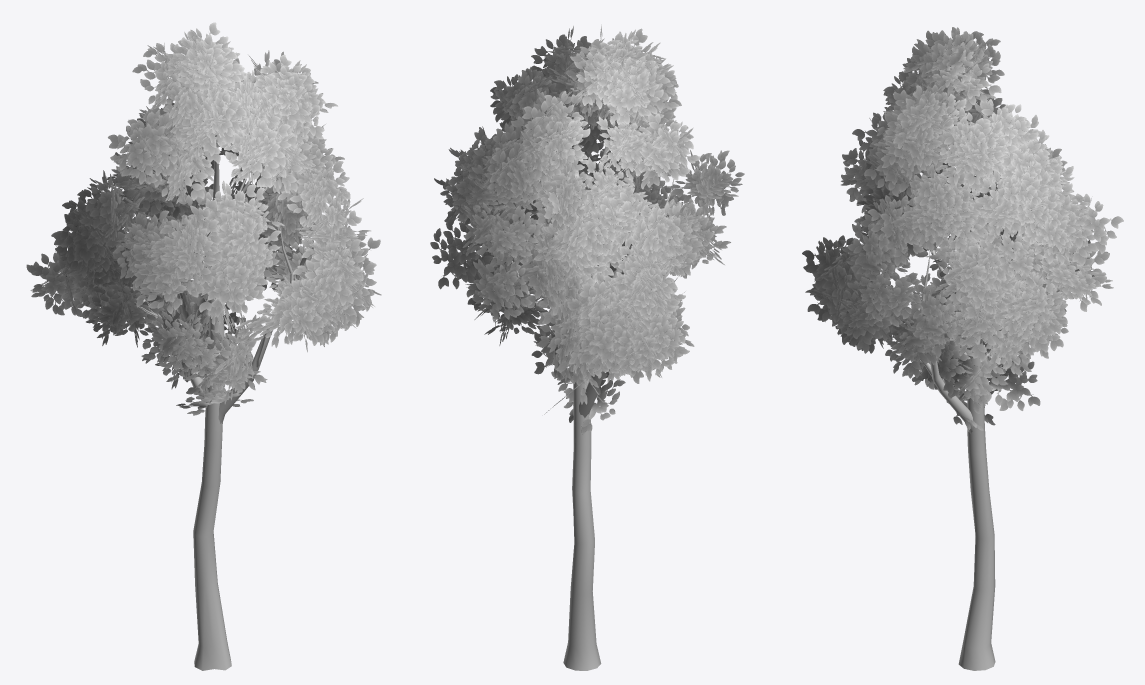
Rendered from SM_Birch_04_Unity.fbx.
The picture shows the model from 3 angles, left to right: view 1: azimuth 30°, elevation 25°; view 2: azimuth 150°, elevation 25°; view 3: azimuth 270°, elevation 25°; orthographic projection. The views are drawn at different scales.
Parts seen in each view (by area): view 1: Birch_04_LOD0; view 2: Birch_04_LOD0; view 3: Birch_04_LOD0.
Part boxes in pixels (x1,y1,x2,y2): Birch_04_LOD0: (26,22,381,670); Birch_04_LOD0: (430,24,744,670); Birch_04_LOD0: (802,27,1123,670).
Size of what is drawn, in the model's own units: 56.56 by 129 by 62.77.
